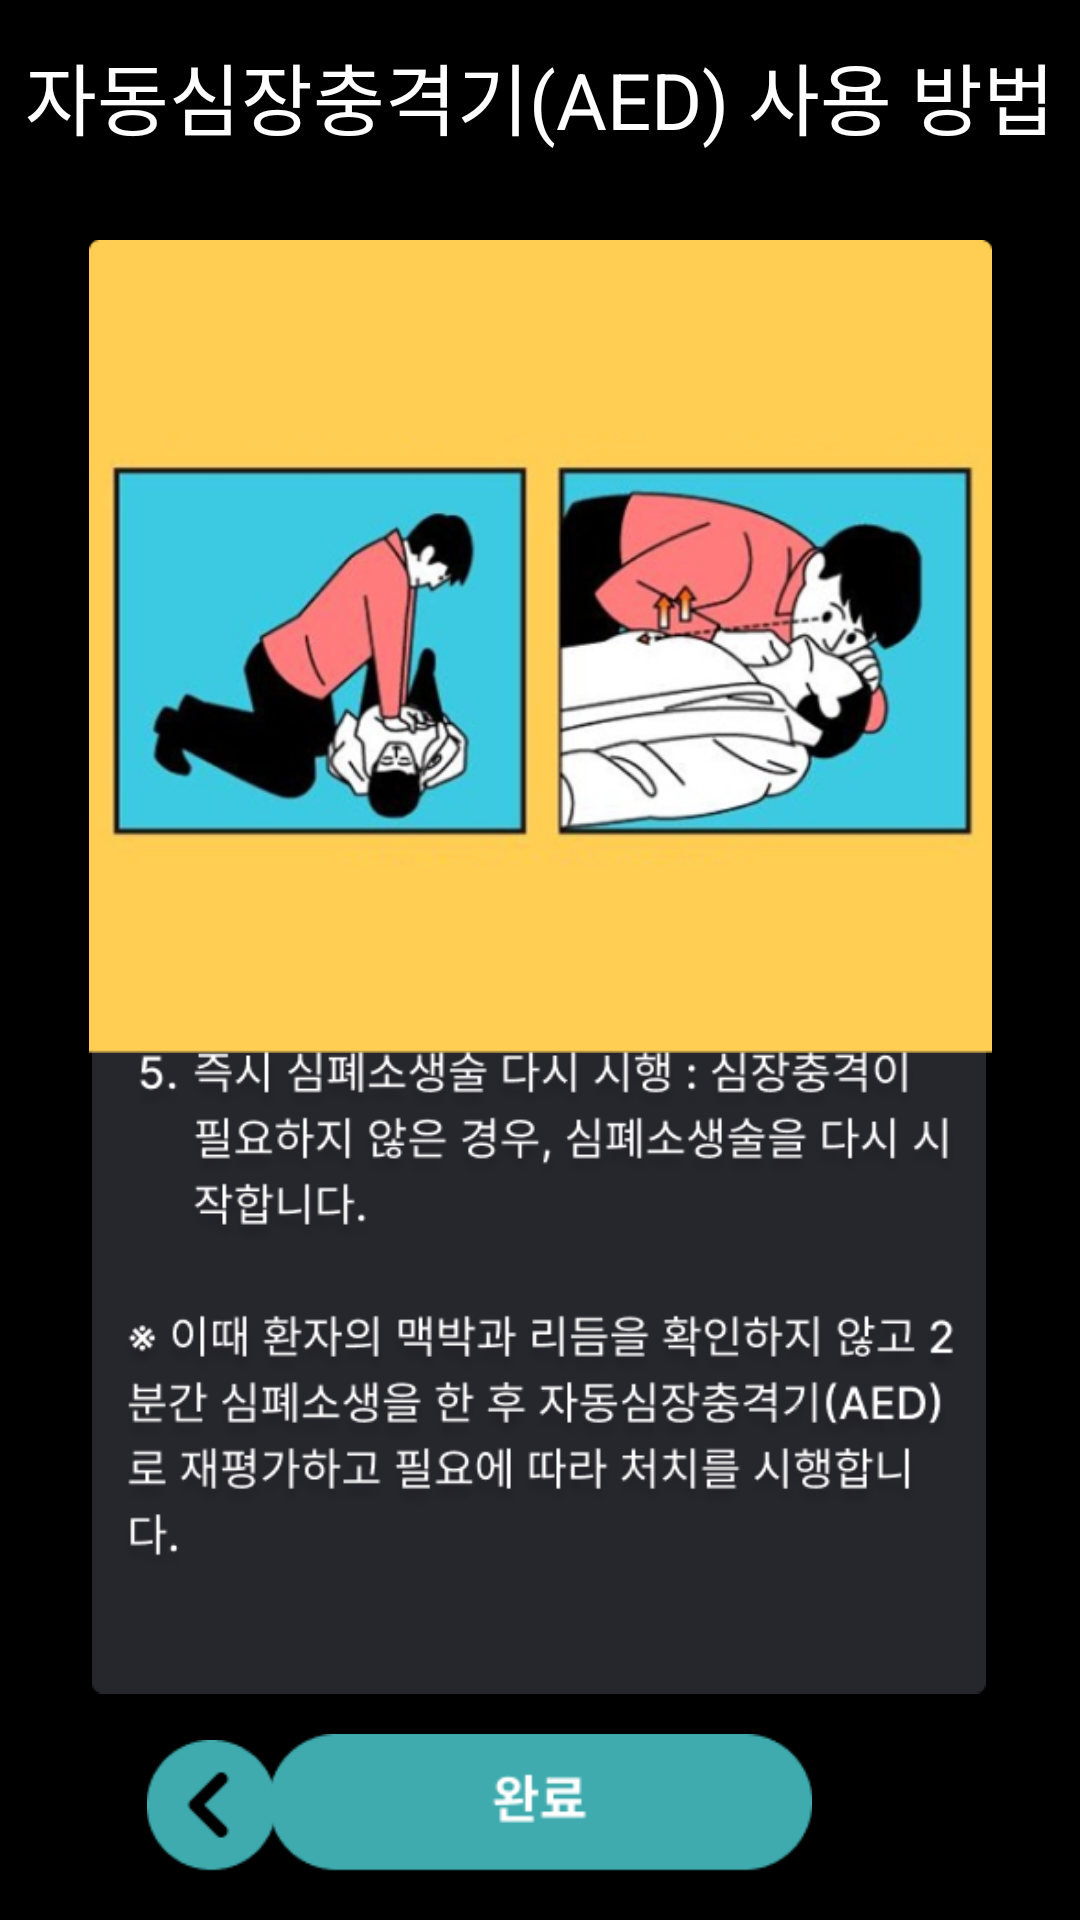

Point at icon controls on the screen. Image size 1080x1920, points as [x,y].
edu previous page: [214,1805]
